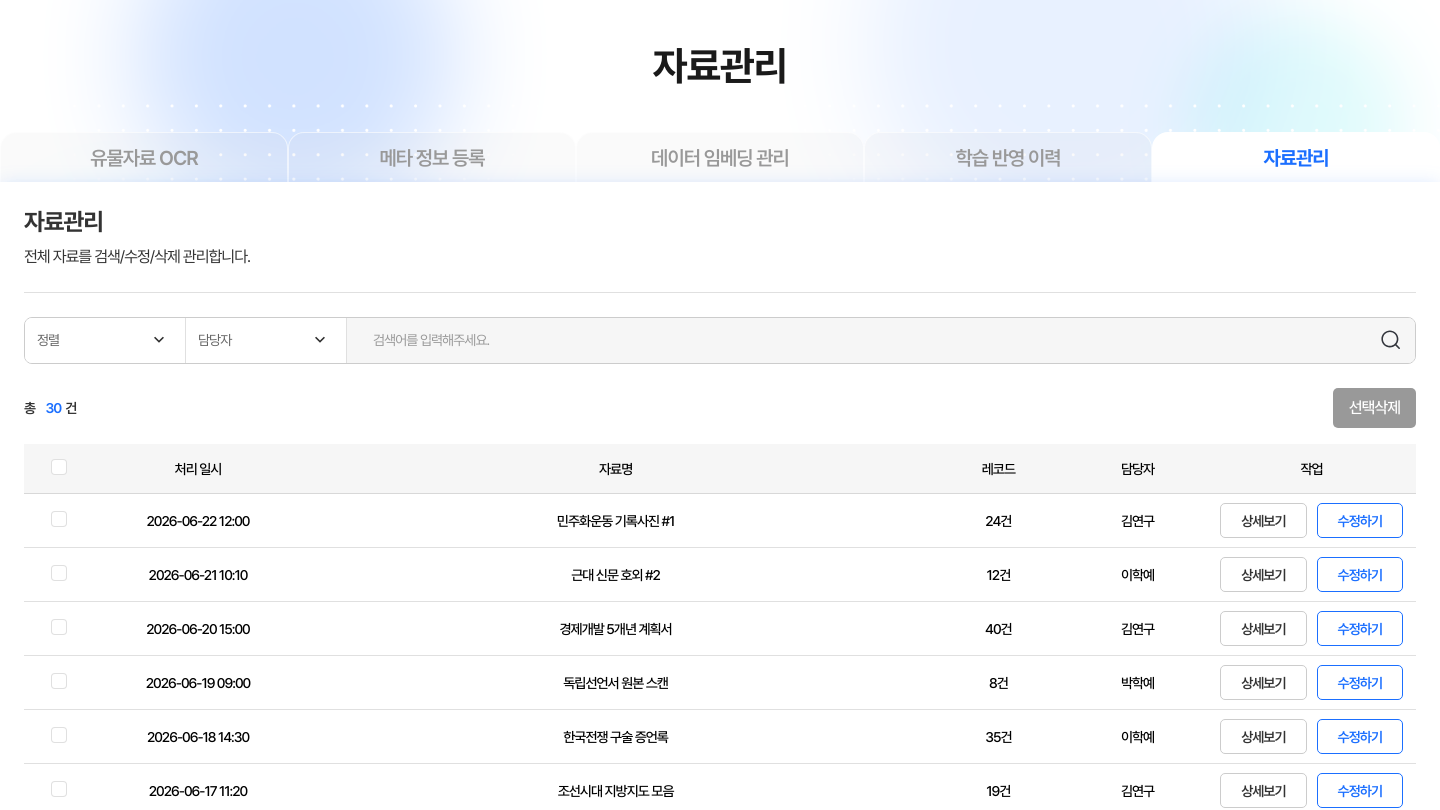
Scenario: Materials: 검색 제출 시 일치하는 행만 남는다
The image size is (1440, 810).
Type "경제개발" into the search field with placeholder "검색어를 입력해주세요.". click: (871, 340)
box: [363,318,1379,363]
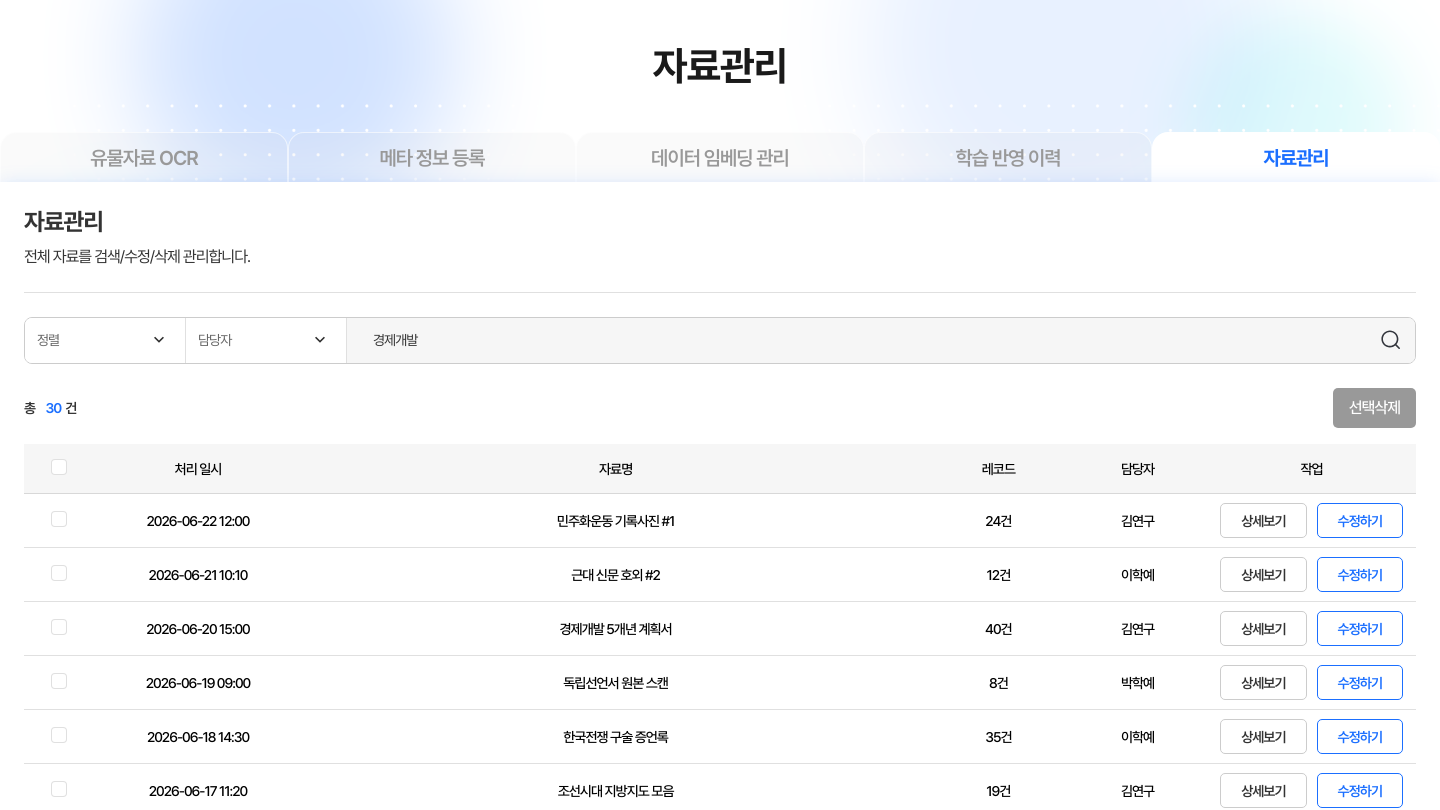
Click the button named "검색". click: (1391, 340)
box: [1379,328,1403,352]
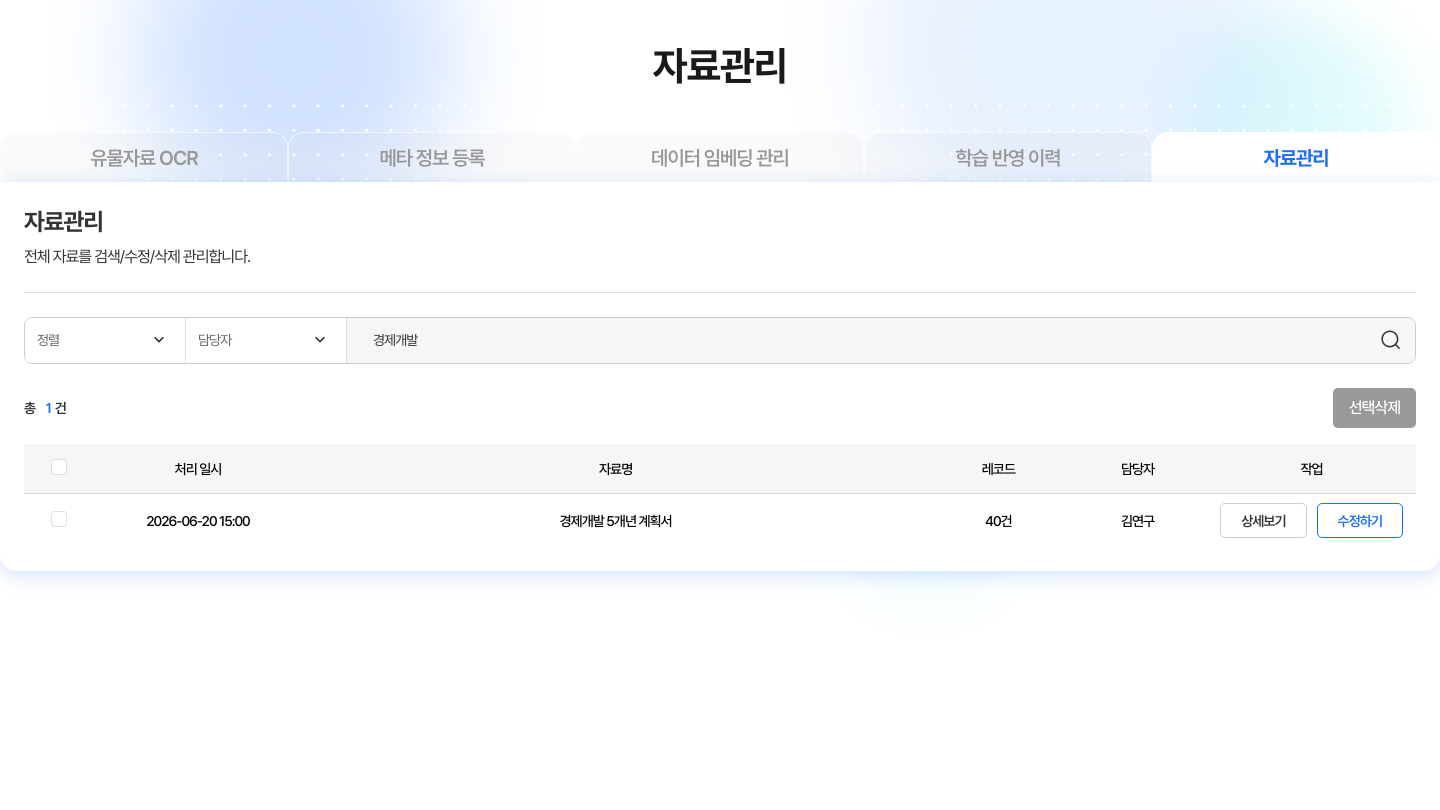
Check: the text "경제개발 5개년 계획서" is shown, box [302,494,929,548]
Check: the text "민주화운동 기록사진 #1" is gone
